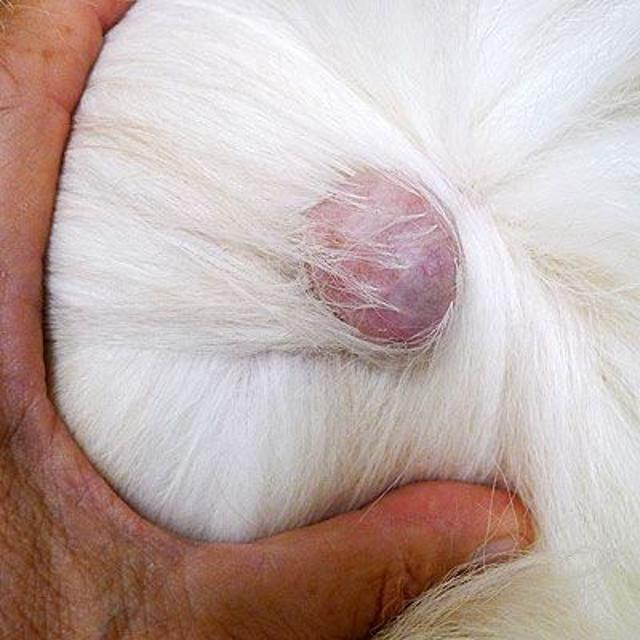lump_and_bump: (313, 161, 455, 358)
